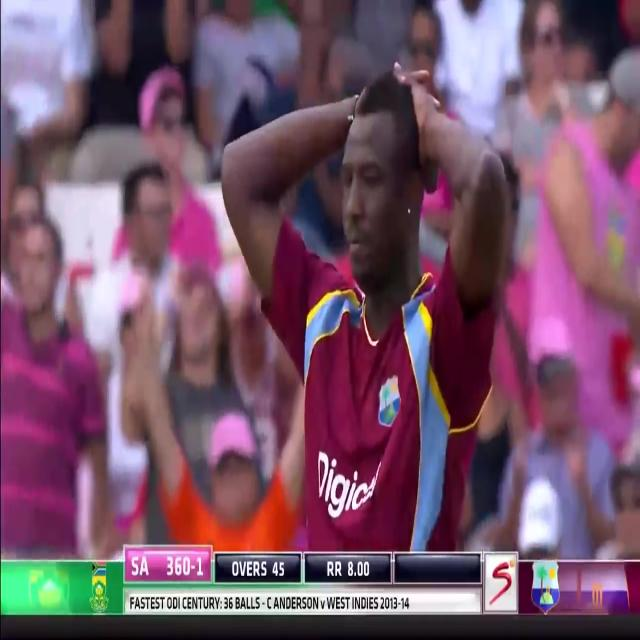Fielder: (196, 1, 558, 550)
